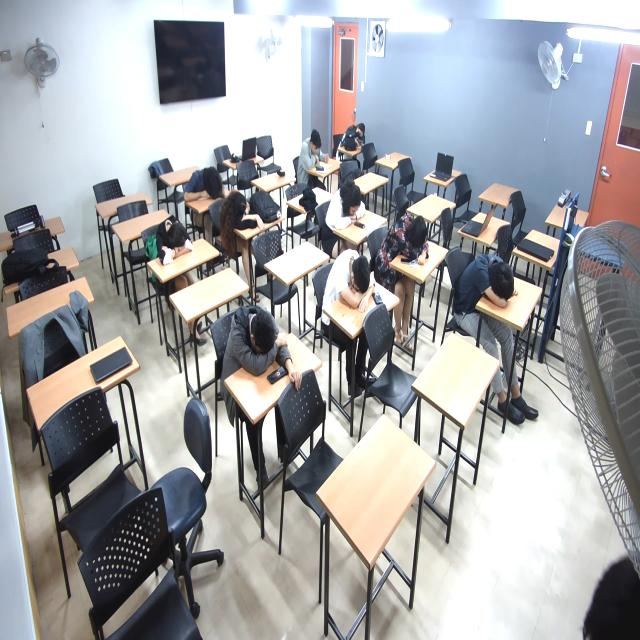sleep: (221, 305, 297, 378), (455, 258, 521, 307), (320, 253, 377, 307), (315, 186, 369, 242), (374, 216, 433, 267), (156, 217, 197, 272), (224, 191, 266, 241), (181, 162, 228, 200), (339, 121, 370, 153)
